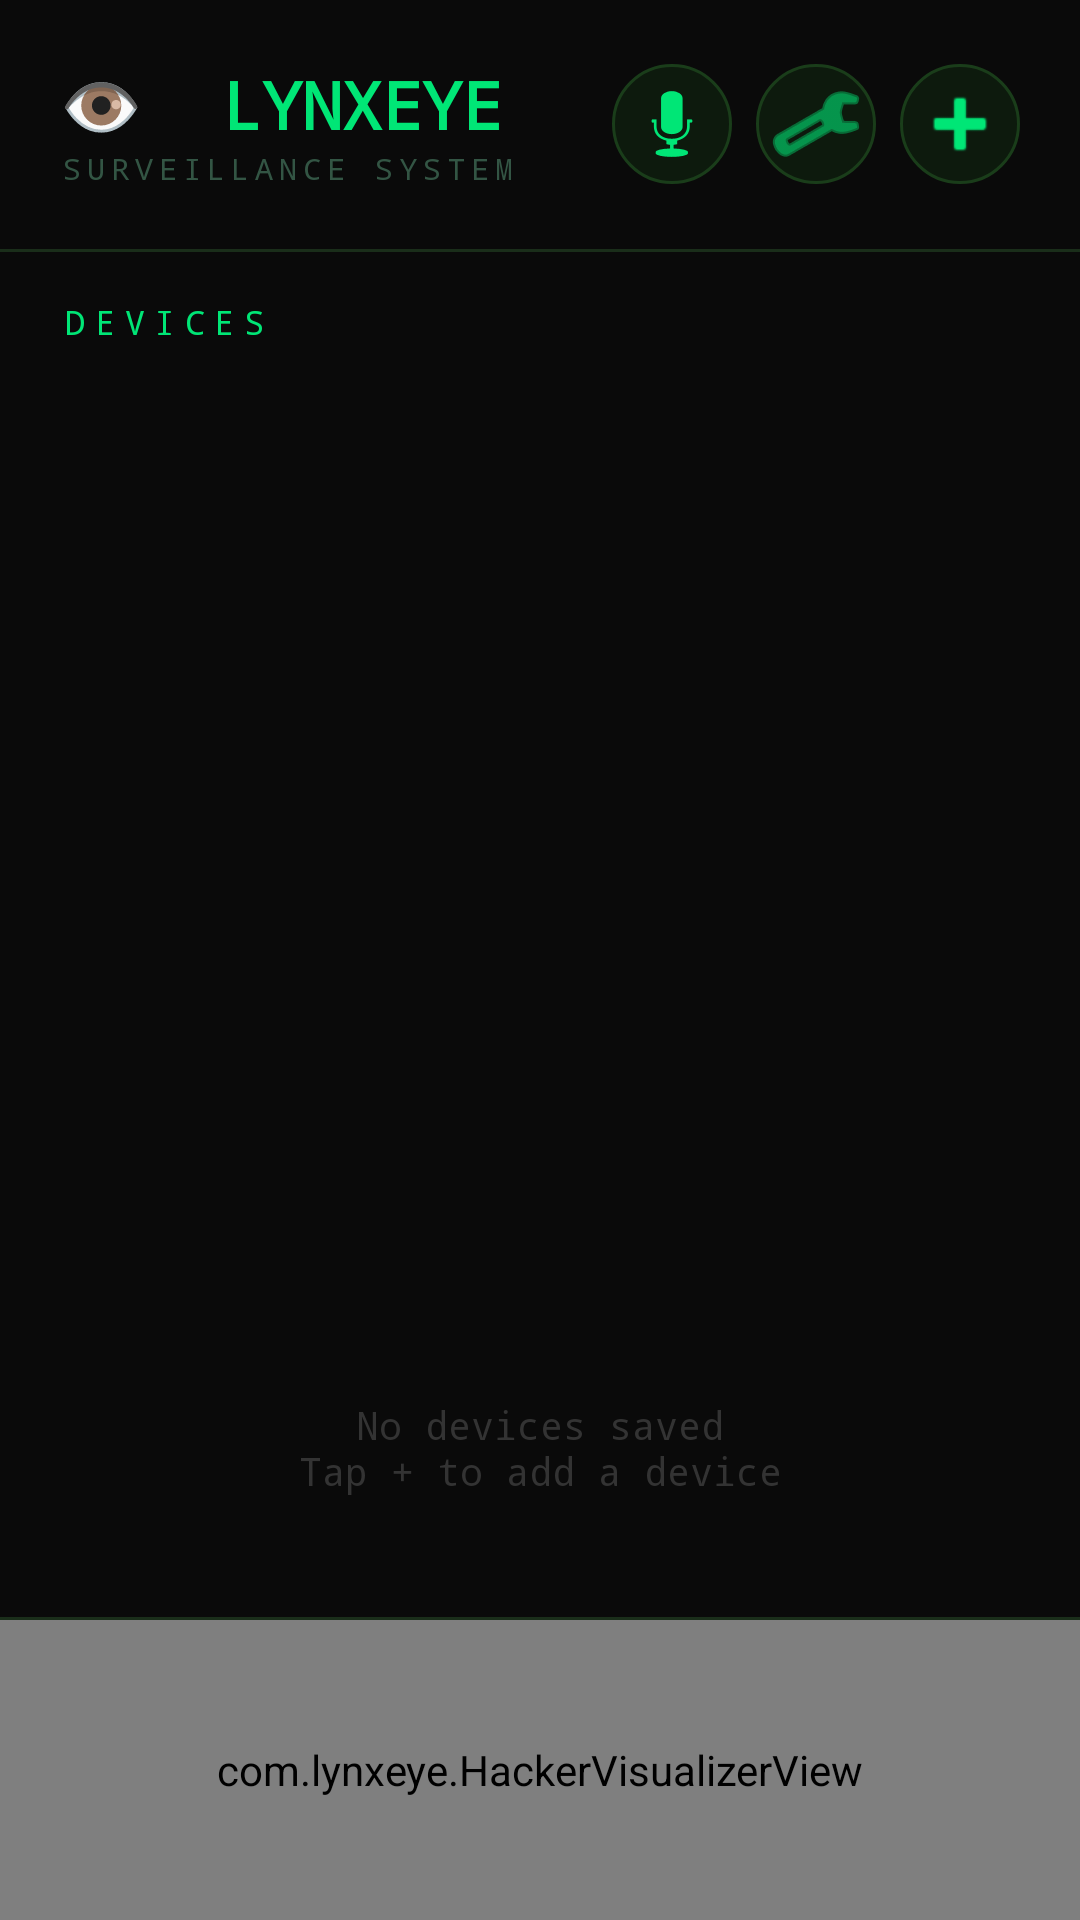

Icons on this 1080w x 1920h Android screen, each with the point to tap as (x,y):
add: (960,124)
preferences: (816,124)
speak now: (672,124)
